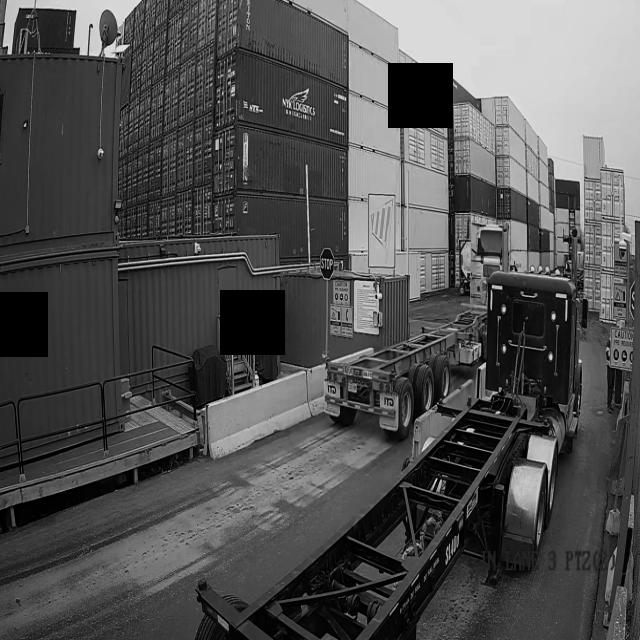truck_without_container: (195, 271, 587, 640), (325, 224, 517, 438)
